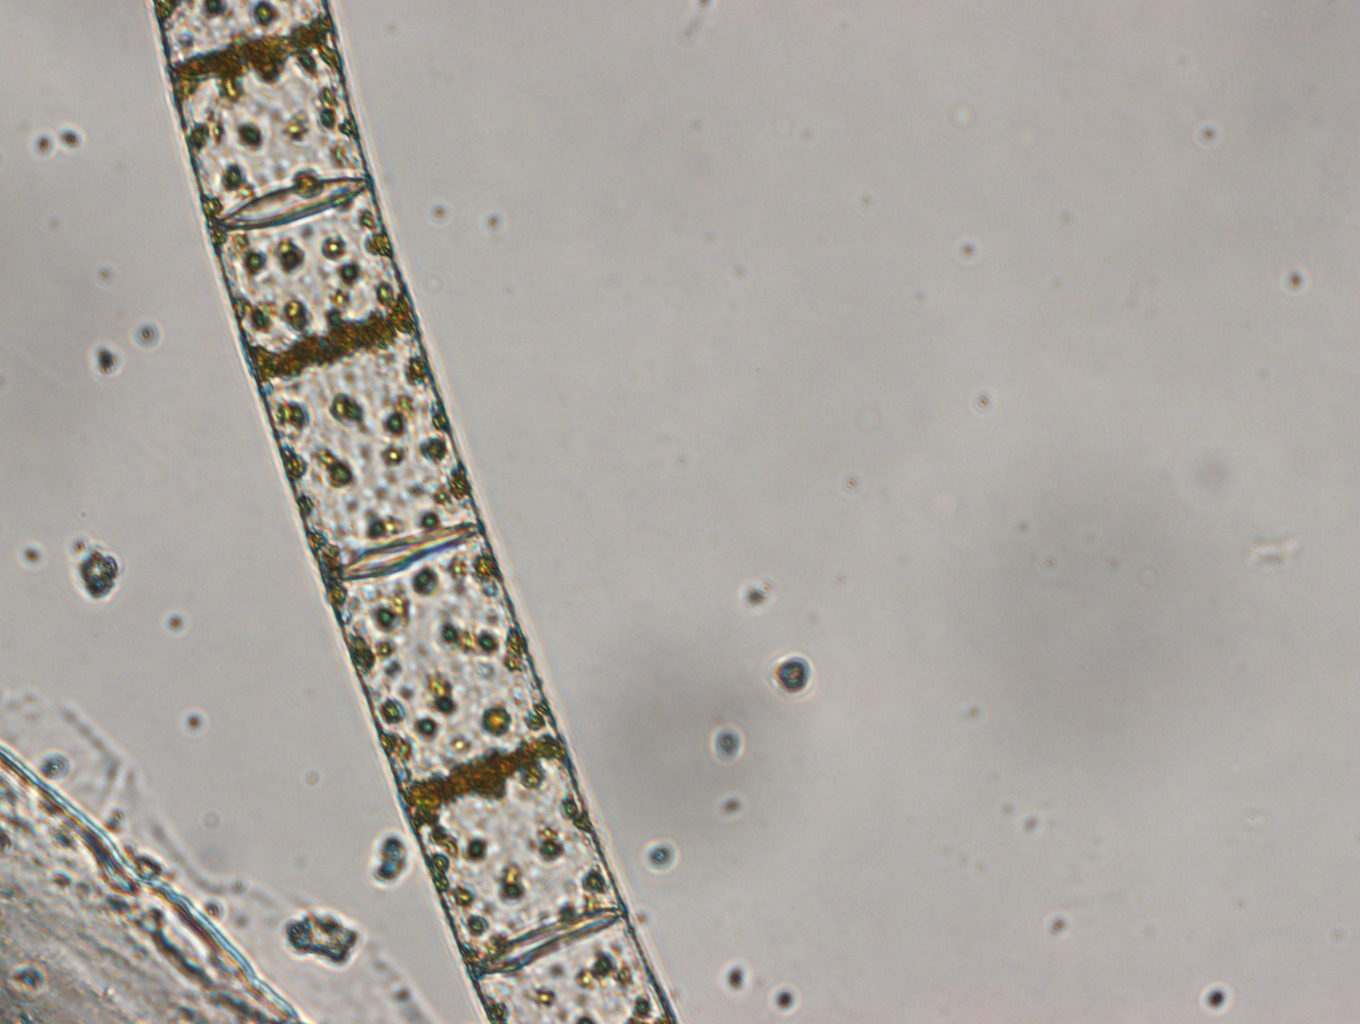guinardia flaccida: (149, 1, 681, 1024)
